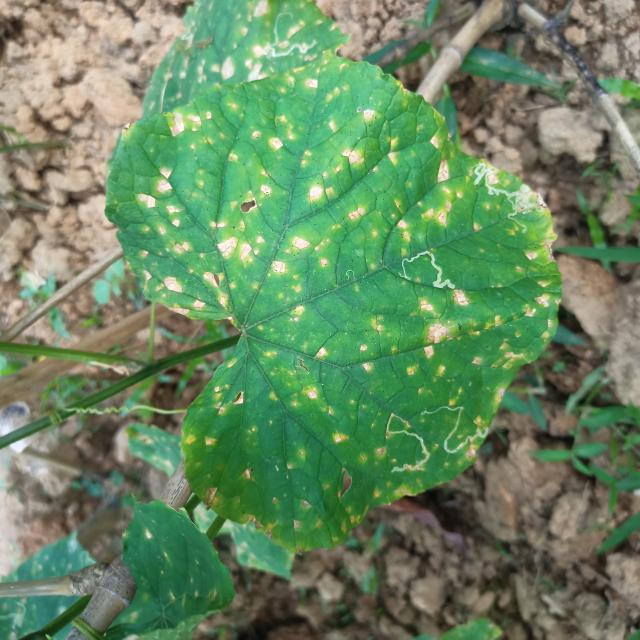disease_cucumber: (137, 74, 550, 516)
